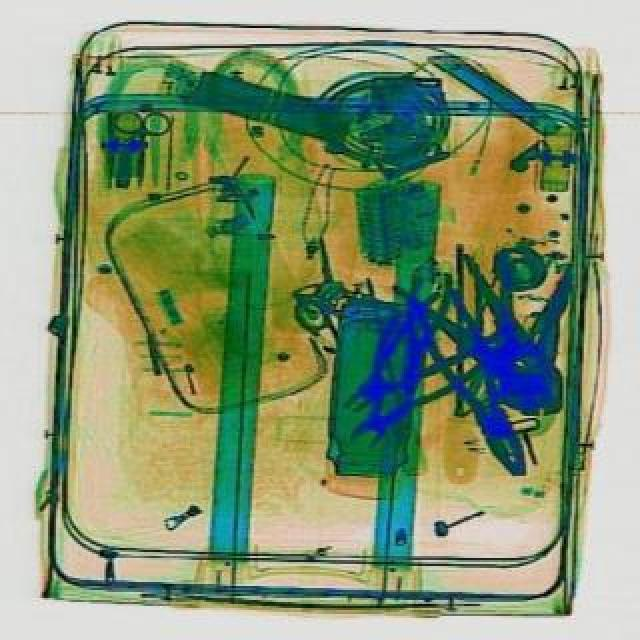wrench: (392, 236, 594, 436), (312, 298, 494, 470), (406, 276, 552, 486), (326, 300, 478, 434)
